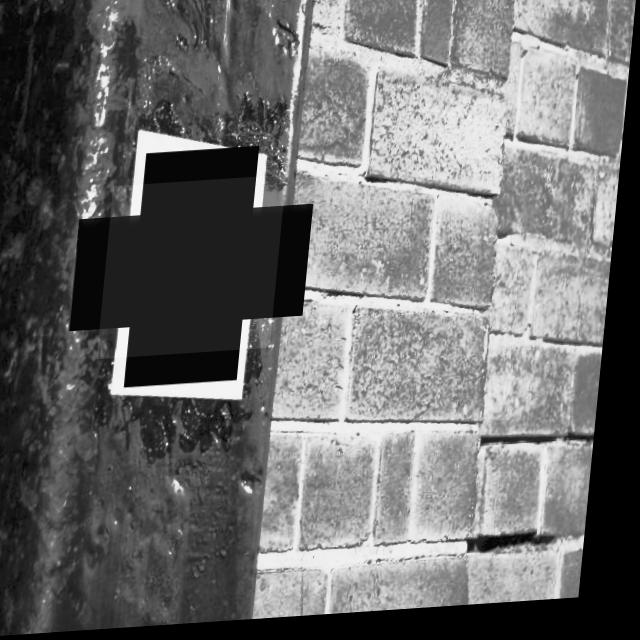qr_code: (104, 179, 290, 361)
